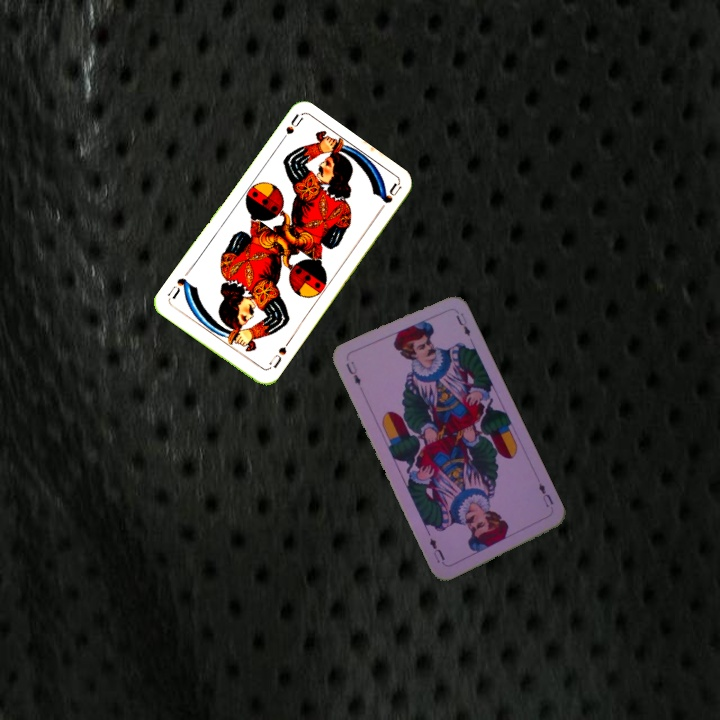EU: (534, 479, 556, 510), (342, 357, 363, 388)
SU: (275, 111, 305, 148), (264, 337, 292, 372)
